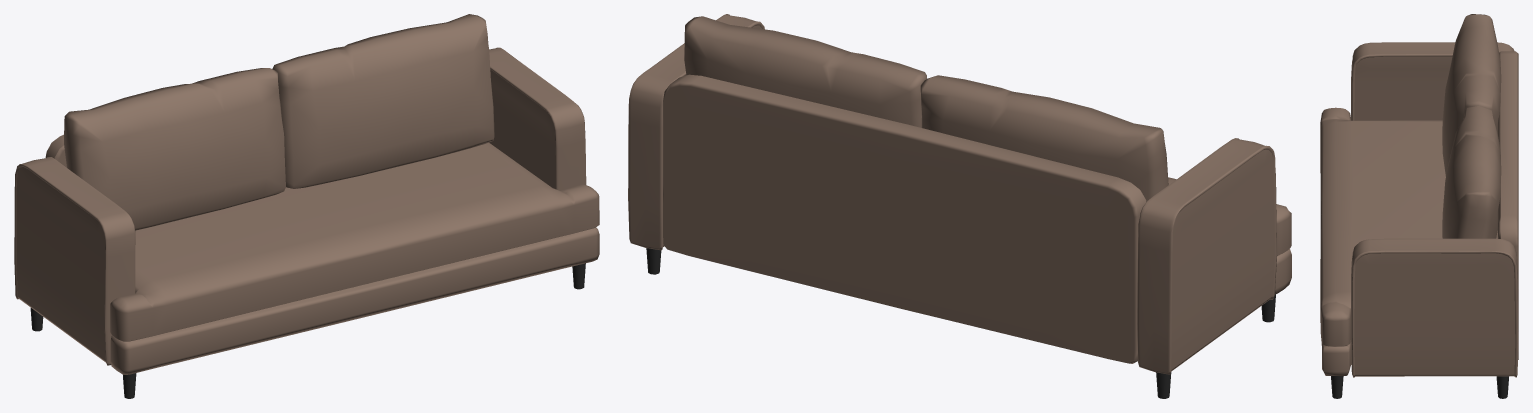
File: sofa_3.glb
3 renders of one model, left to right at view 1: azimuth 30°, elevation 25°; view 2: azimuth 150°, elevation 25°; view 3: azimuth 270°, elevation 25°, orthographic. The views are drawn at different scales.
Visible parts, largest first — view 1: sofa_sofa_0; view 2: sofa_sofa_0; view 3: sofa_sofa_0.
Part boxes in pixels (x1,y1,x2,y2): sofa_sofa_0: [14, 14, 599, 398]; sofa_sofa_0: [628, 14, 1291, 398]; sofa_sofa_0: [1320, 14, 1518, 398].
Bounding box in the file's own units: 2.53 × 1.1 × 1.01.
